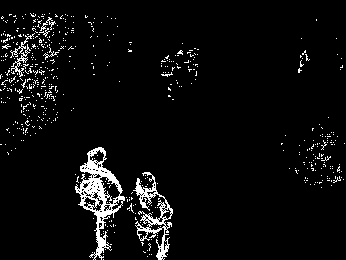person: (75, 143, 124, 259), (132, 173, 176, 260)
